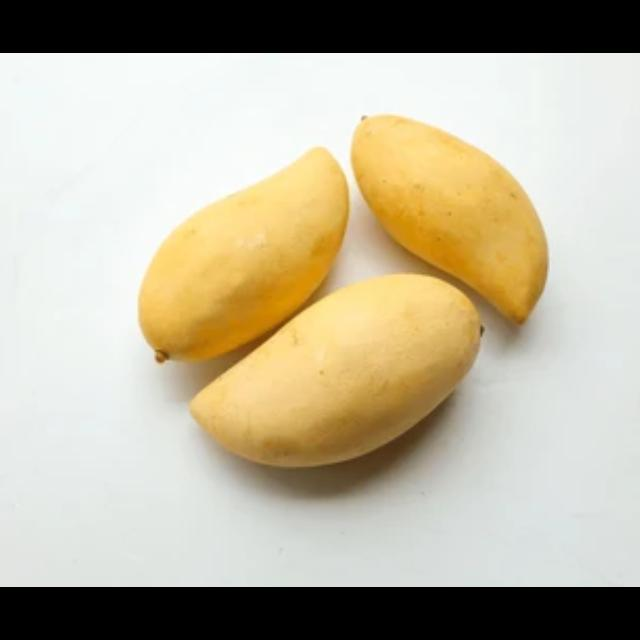mango: (191, 268, 482, 473), (140, 143, 349, 364), (351, 107, 550, 325)
